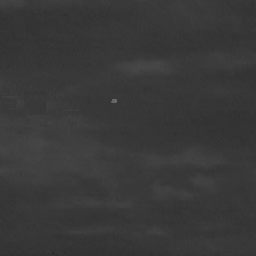Target: (110, 98, 117, 104)
